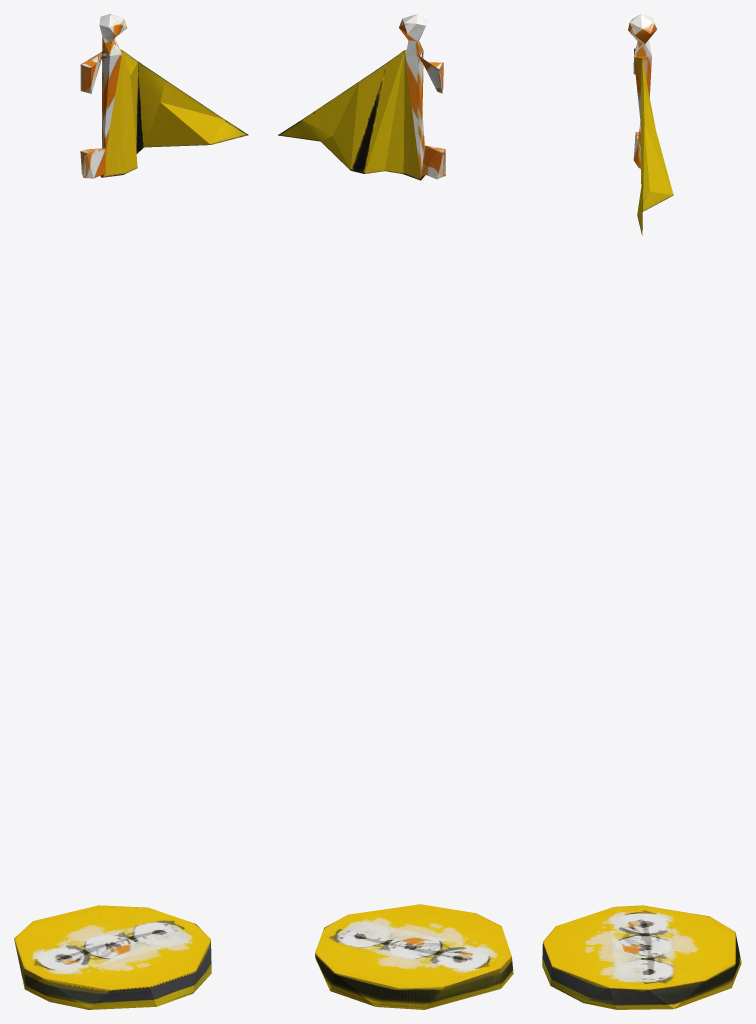
Rendered from rope_pole.glb.
3 renders of one model, left to right at view 1: azimuth 30°, elevation 25°; view 2: azimuth 150°, elevation 25°; view 3: azimuth 270°, elevation 25°, orthographic.
Bounding box in the file's own units: 0.4662 × 1.9 × 0.3598.
Materials: 1 (1 with a texture image).
